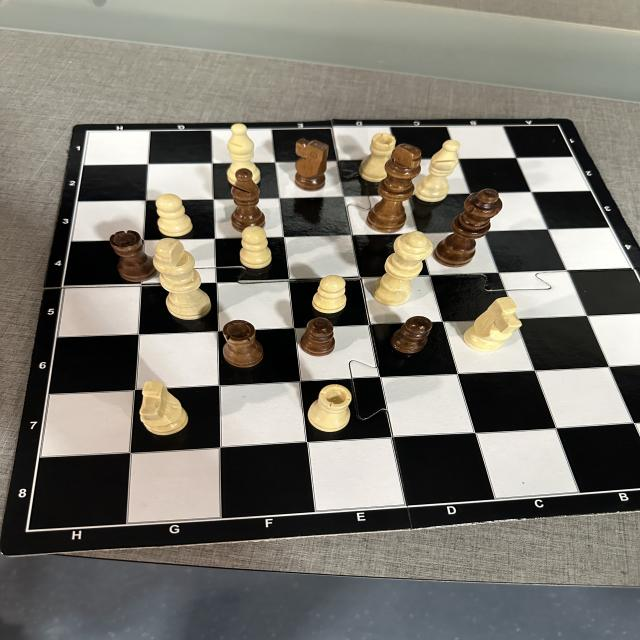Black-Bishop: (231, 168, 265, 233)
Black-King: (365, 144, 422, 234)
Black-Knight: (296, 138, 330, 192)
Black-Pawn: (390, 316, 433, 354), (300, 318, 336, 357)
Black-Queen: (433, 188, 502, 268)
Black-Rook: (110, 231, 154, 282), (223, 320, 264, 368)
White-Bishop: (414, 140, 460, 203), (227, 124, 261, 186)
White-King: (153, 238, 212, 320)
White-Knight: (464, 296, 523, 352), (139, 381, 188, 436)
White-Pawn: (156, 194, 193, 237), (239, 226, 272, 269), (312, 275, 347, 314)
White-Queen: (372, 230, 433, 306)
White-Rook: (308, 384, 352, 433), (358, 133, 397, 183)
